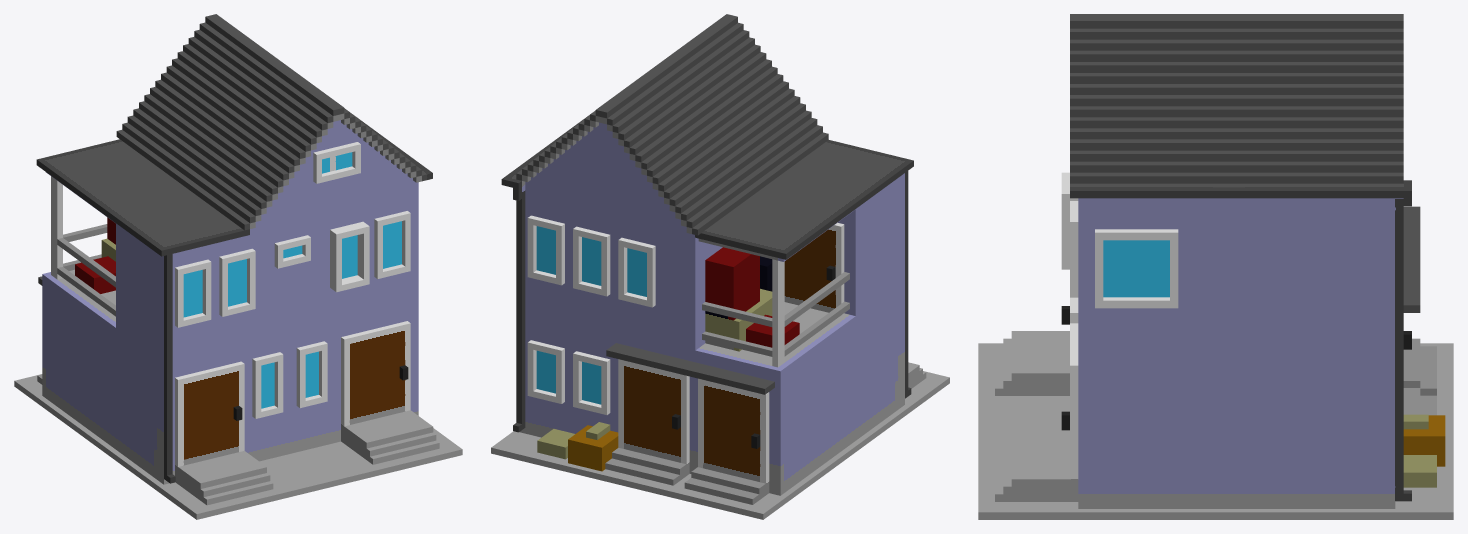
The model's file is obj_house8c.dae.
The picture shows the model from 3 angles, left to right: view 1: azimuth 30°, elevation 25°; view 2: azimuth 150°, elevation 25°; view 3: azimuth 270°, elevation 25°; orthographic projection. The views are drawn at different scales.
Parts seen in each view (by area): view 1: obj_house8c; view 2: obj_house8c; view 3: obj_house8c.
Part boxes in pixels (<box>): obj_house8c: <box>14,14,462,519</box>; obj_house8c: <box>491,14,949,519</box>; obj_house8c: <box>978,14,1453,519</box>.
Size of the model in its own units: 4.9 by 5.7 by 5.9.
1 material, 1 textured.
